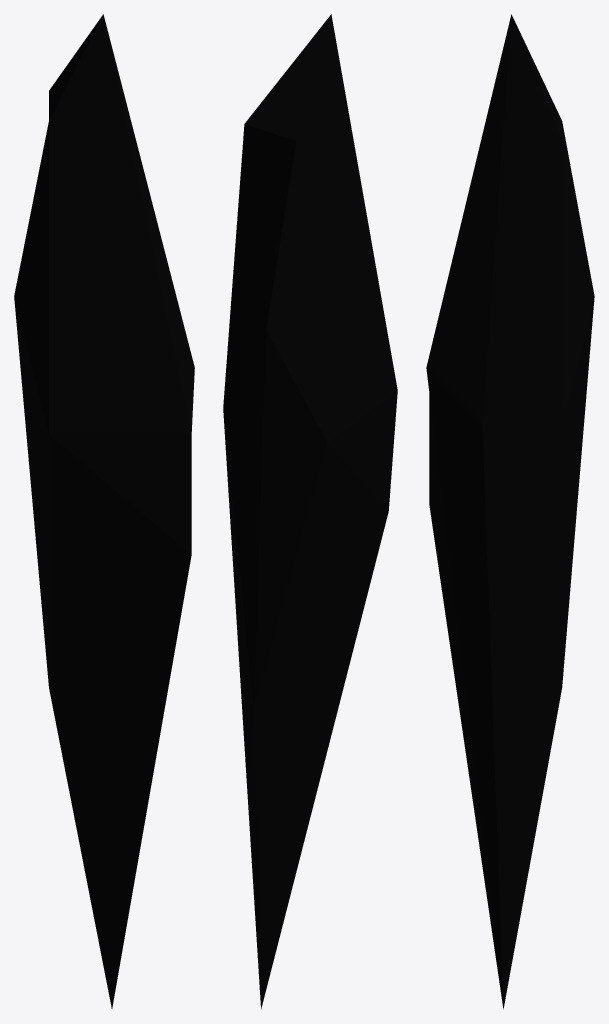
Rendered from plane_lava_fire01.FBX.
3 views of the same model, side by side, from view 1: azimuth 90°, elevation 25°; view 2: azimuth 150°, elevation 25°; view 3: azimuth 270°, elevation 25° (orthographic). The views are drawn at different scales.
Parts seen in each view (by area): view 1: Box001; view 2: Box001; view 3: Box001.
Boxes of the visible parts, x1,y1,x2,y2 form: Box001: (14, 14, 194, 1008); Box001: (223, 14, 397, 1009); Box001: (426, 14, 594, 1009).
Bounding box in the file's own units: 3.7 × 34.46 × 5.47.
